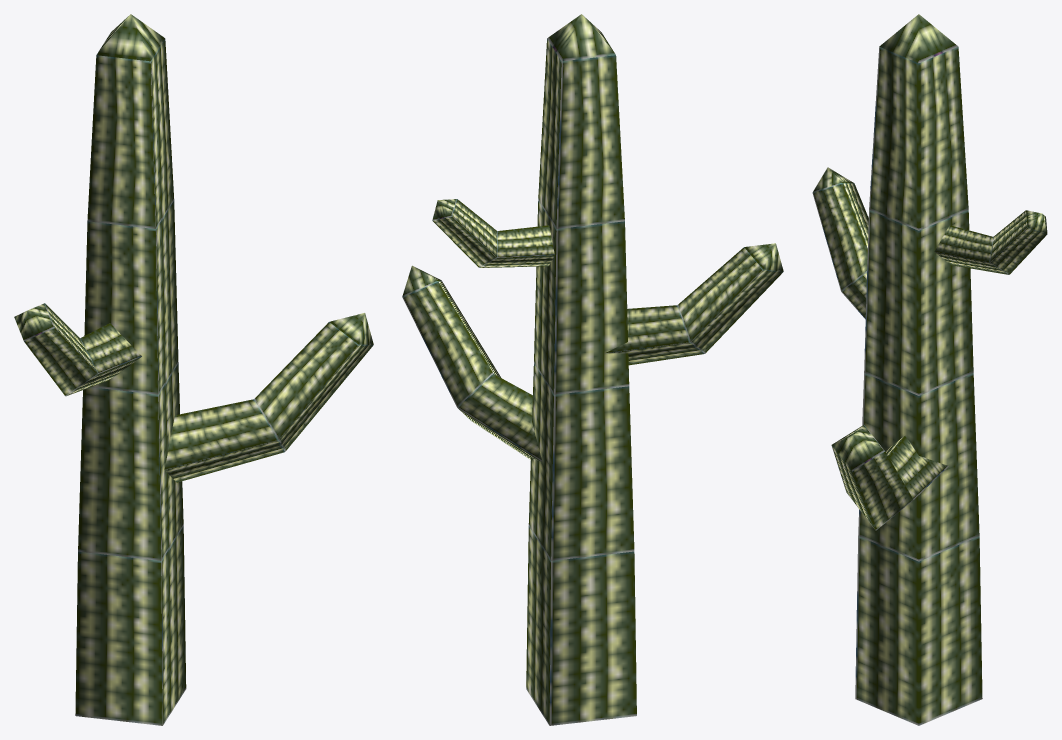
Rendered from cactus_Large_lowPoly.fbx.
3 renders of one model, left to right at view 1: azimuth 30°, elevation 25°; view 2: azimuth 150°, elevation 25°; view 3: azimuth 270°, elevation 25°, orthographic.
Visible parts, largest first — view 1: cactus_Large_lowPoly; view 2: cactus_Large_lowPoly; view 3: cactus_Large_lowPoly.
Part boxes in pixels (x1,y1,x2,y2): cactus_Large_lowPoly: (14, 14, 373, 725); cactus_Large_lowPoly: (402, 14, 783, 725); cactus_Large_lowPoly: (812, 14, 1047, 725).
Bounding box in the file's own units: 2.32 × 4.2 × 1.31.
